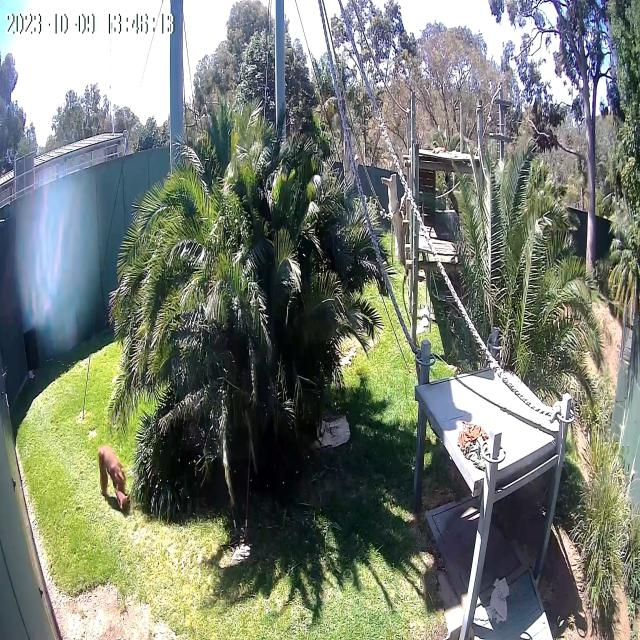orangutan: (97, 444, 128, 510)
